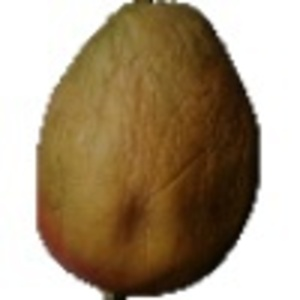mamão: (29, 2, 268, 294)
